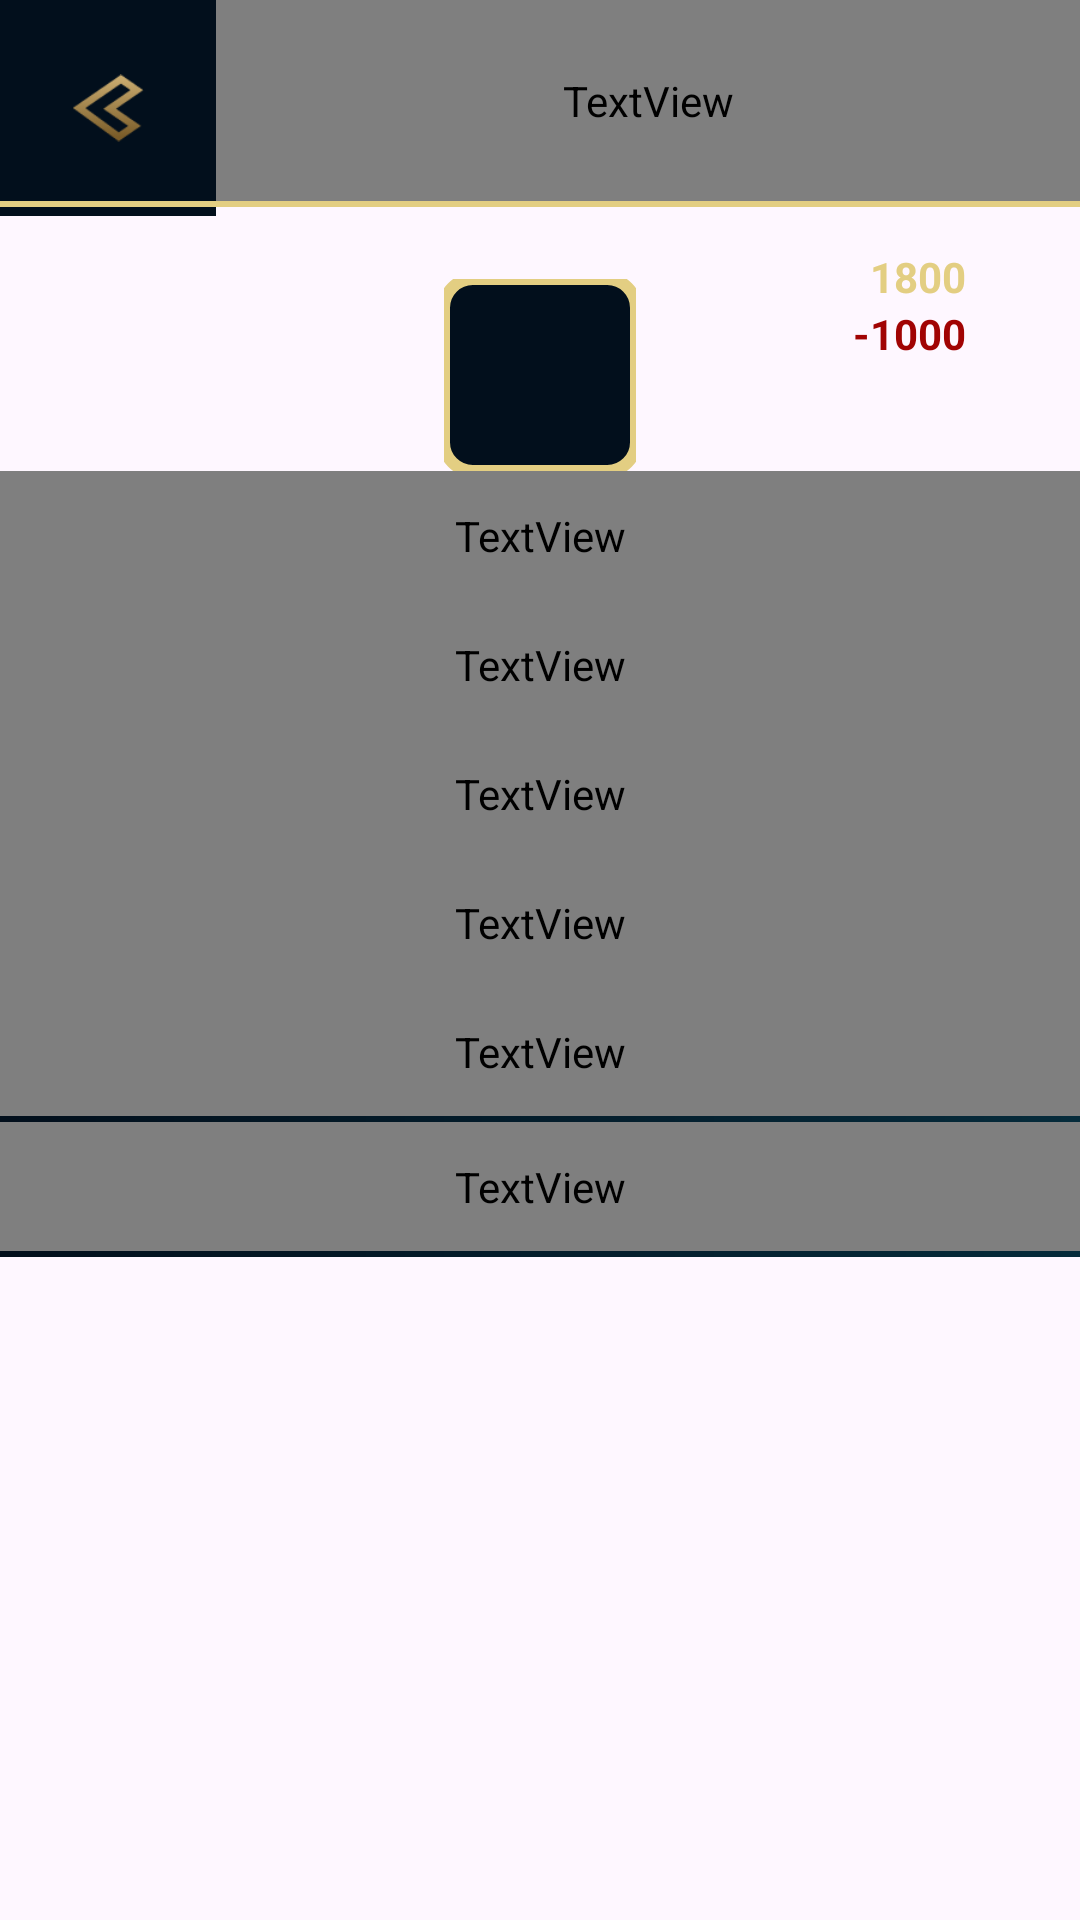

Where to tap for icons on this 1080w x 1920h app screen, as (x,y):
back lol: (108,108)
